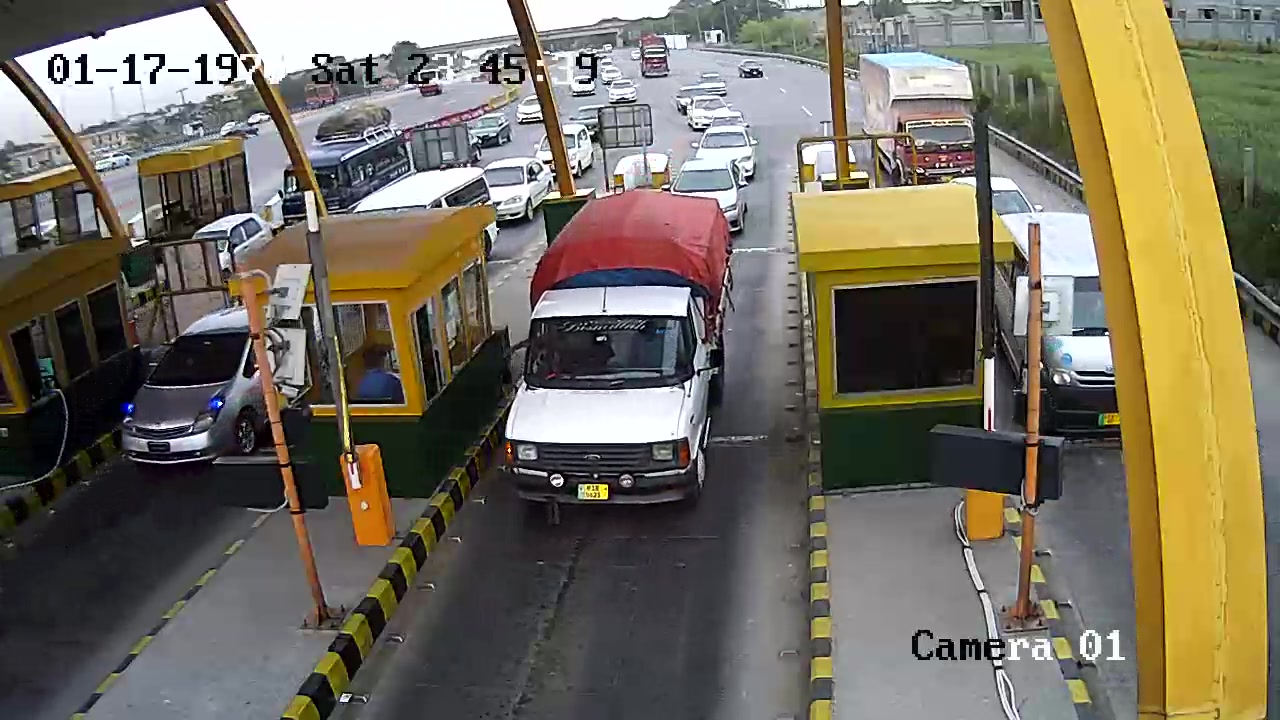F3: (499, 190, 753, 524)
